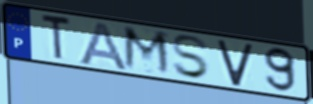9: (261, 45, 298, 94)
A: (76, 20, 131, 72)
M: (121, 24, 174, 78)
S: (170, 33, 212, 81)
T: (40, 12, 73, 63)
V: (215, 39, 256, 88)
